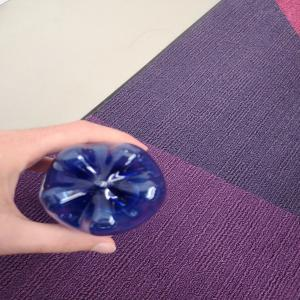Plastic-bottle: (38, 143, 169, 238)
